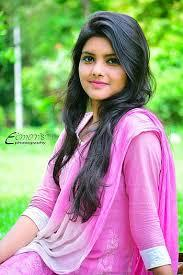Human: (23, 12, 165, 271)
